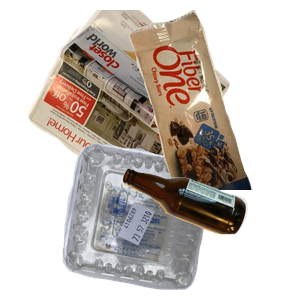glass: (119, 166, 300, 300)
paper: (23, 10, 245, 190)
plastic: (60, 141, 263, 300)
trash: (127, 10, 300, 190)
